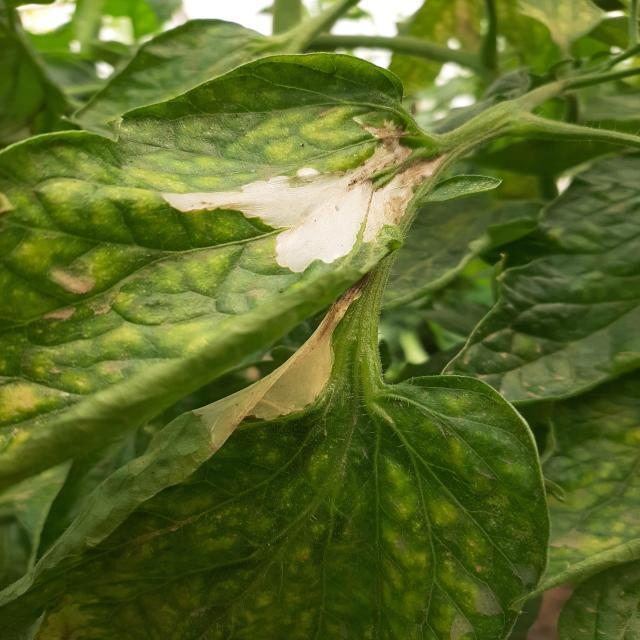Tuta absoluta: (163, 103, 465, 307)
